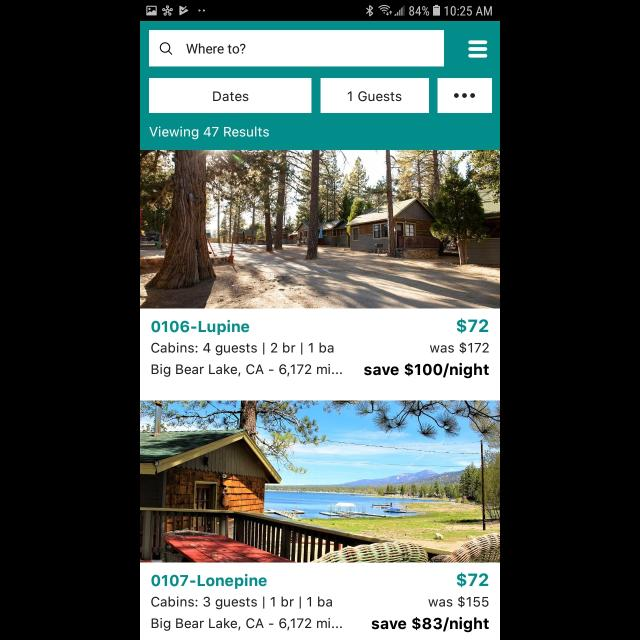icon: (468, 40, 488, 58), (160, 42, 172, 56)
image: (140, 401, 500, 563), (140, 150, 500, 308)
input: (150, 31, 444, 67)
text: (152, 596, 342, 632), (152, 343, 342, 377), (364, 362, 488, 378), (372, 616, 490, 632), (152, 574, 268, 590), (150, 126, 268, 140), (153, 320, 250, 336), (429, 596, 489, 608), (430, 342, 490, 354), (187, 44, 246, 54), (456, 572, 488, 588), (456, 318, 488, 334)
textbutton: (150, 78, 312, 114), (321, 78, 429, 114), (438, 78, 492, 114)
uppertaskbar: (140, 1, 500, 22)
